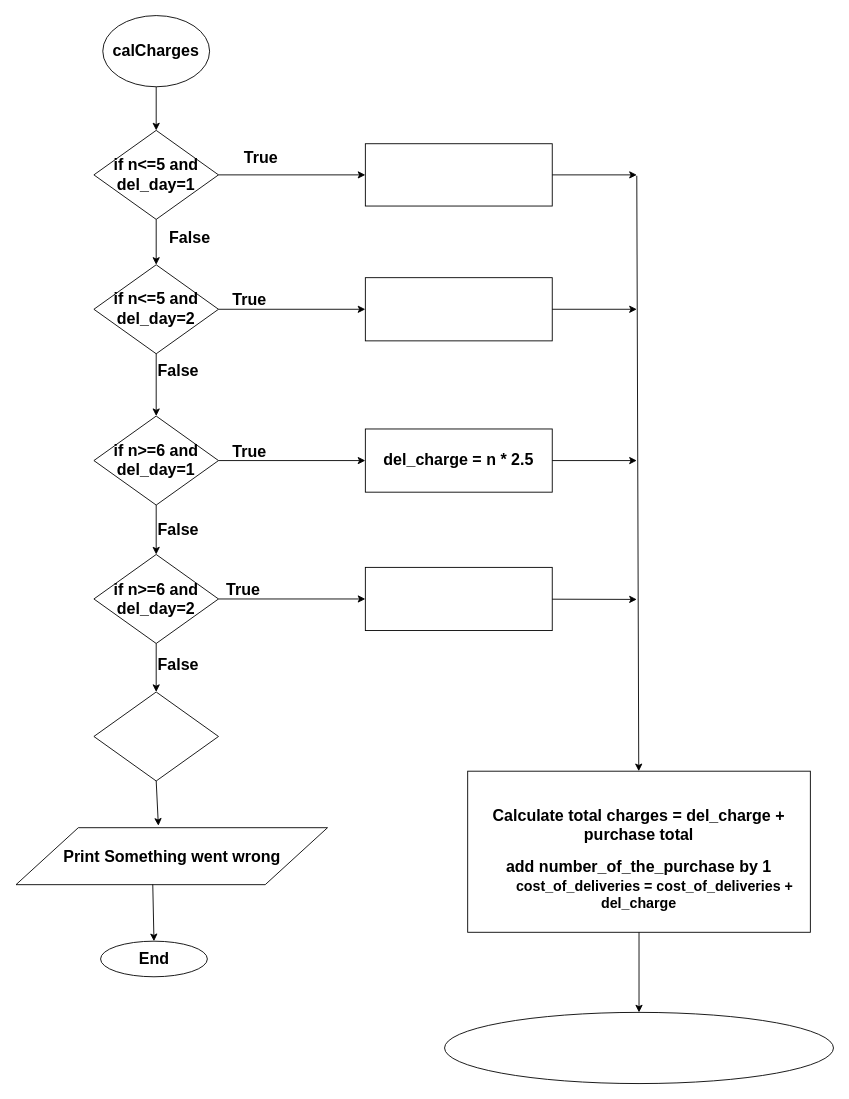
Some shapes in this 849 by 1099 pixel diagram are drawn without their labels. Each missing label, with the centre of its shape:
del_charge = 8: point (458, 174)
del_charge = n * 1.2: point (458, 598)
del_charge = n * 1.5: point (458, 309)
else: point (155, 736)
return del_charge,purchase_total+del_charge: point (638, 1047)
